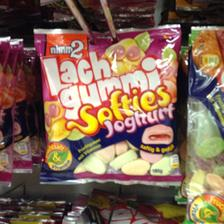Suessigkeit: (29, 25, 182, 187), (178, 26, 223, 210)
